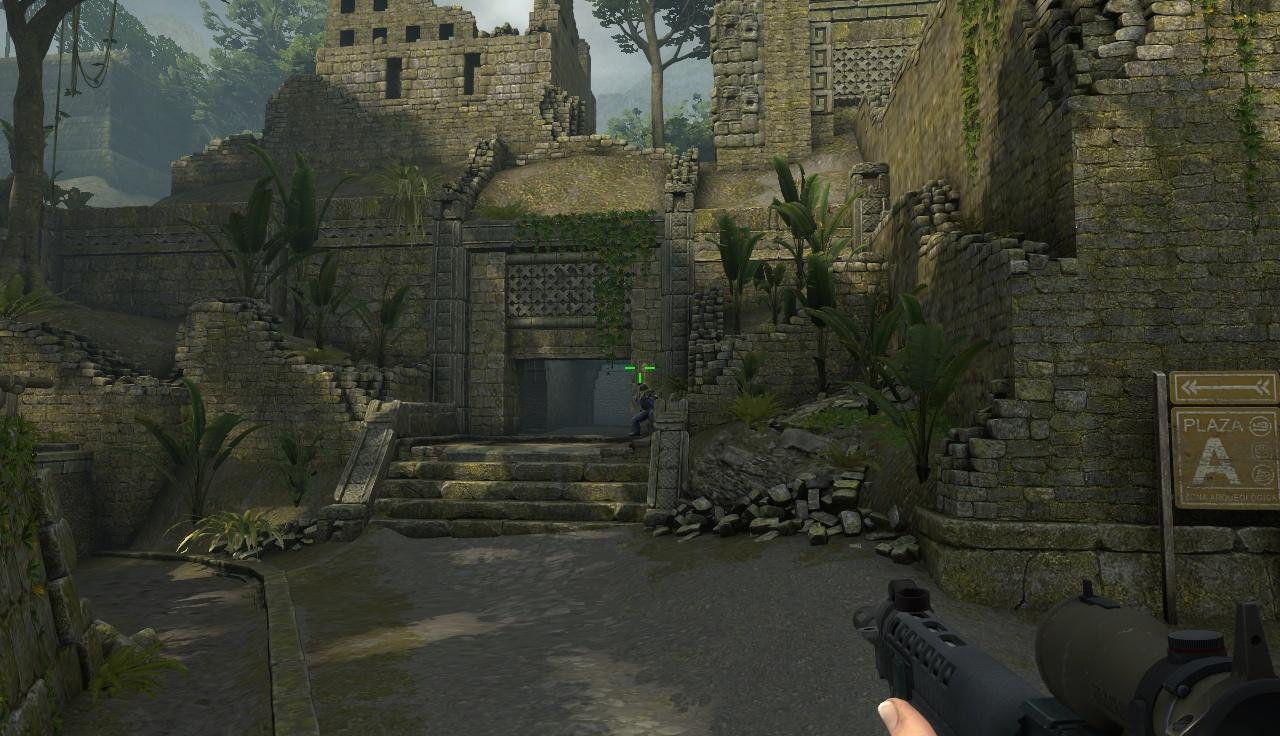rifle: (869, 575, 1280, 736)
tt: (631, 384, 657, 439)
tthead: (638, 386, 648, 397)
